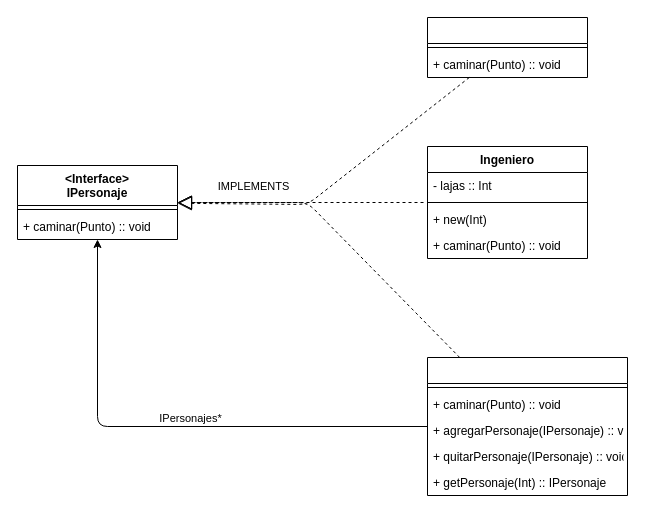
This 656x516 diagram has some shape labels left out. Here are the shapes that lost their labels. From the top down, the box of each, then its label:
(426, 16, 588, 78): Caballero
(426, 356, 628, 496): Ejercito
